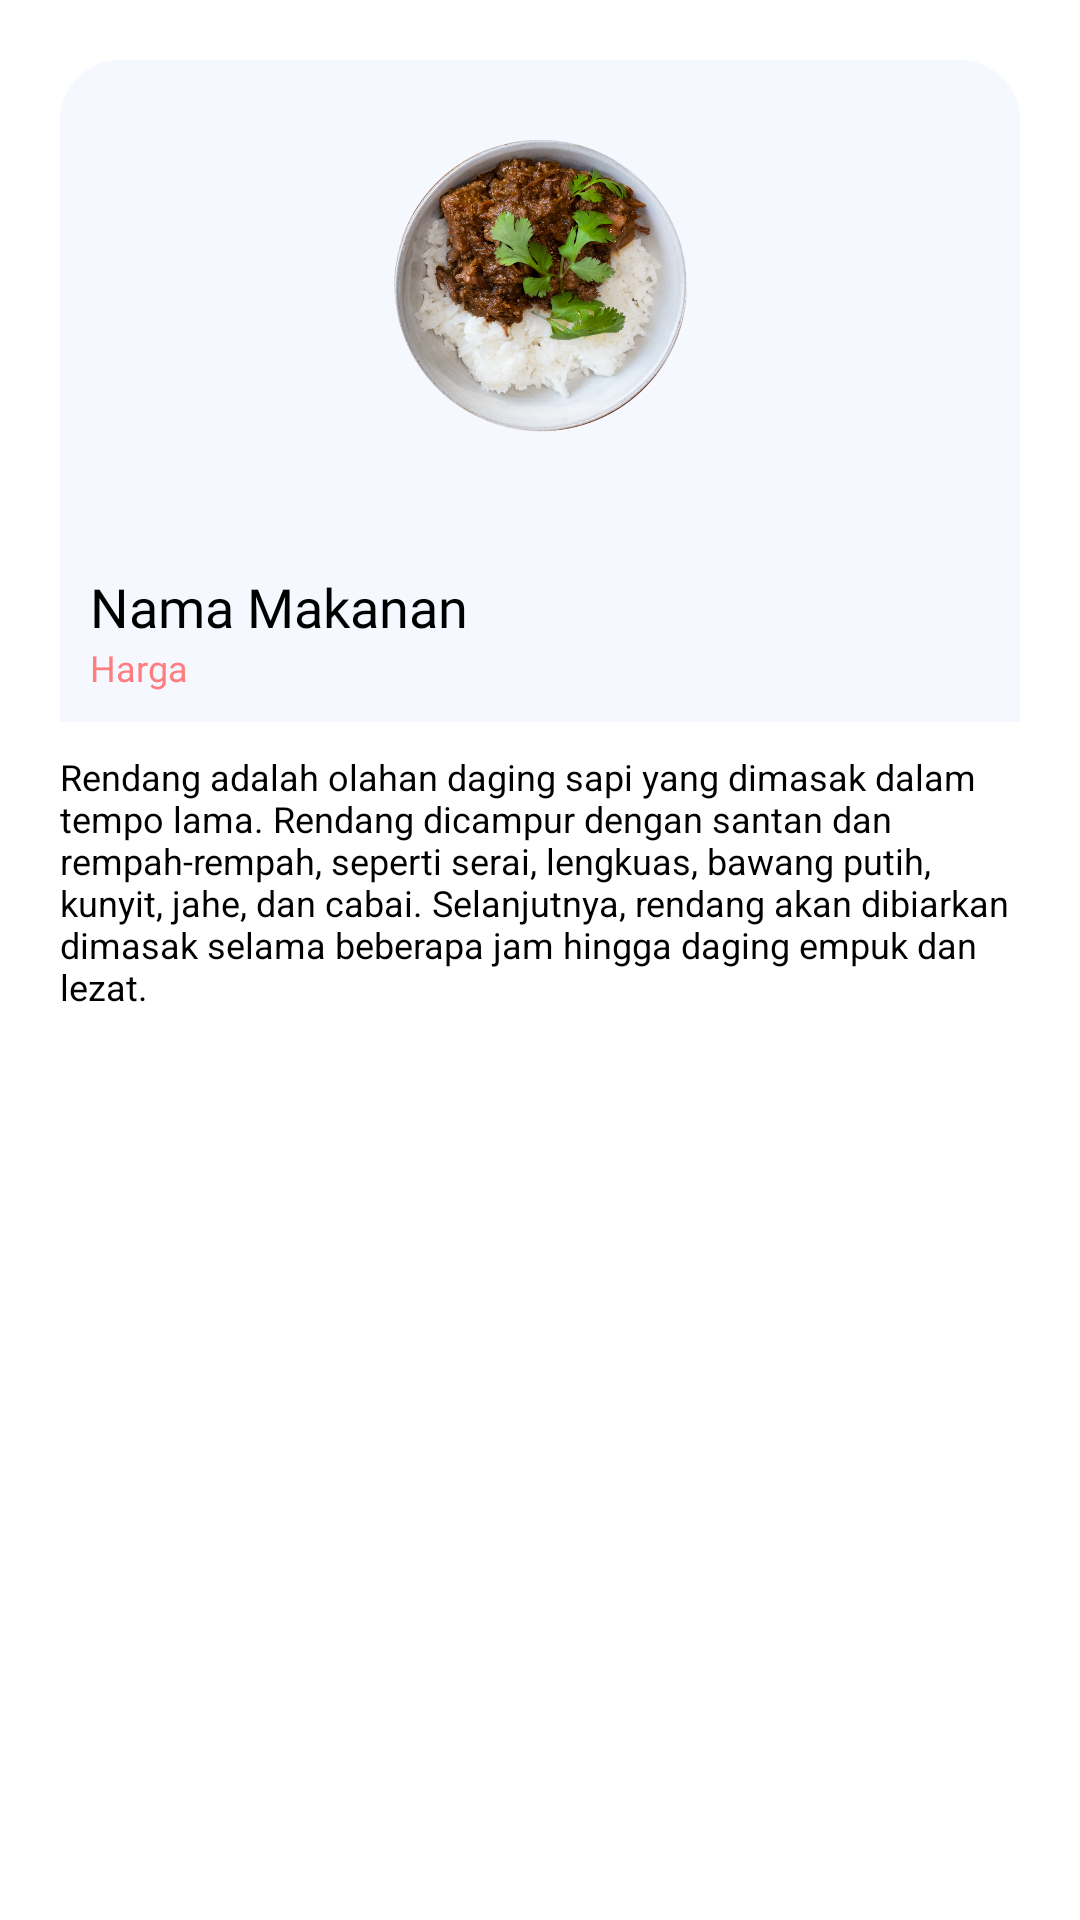

Named icons in this screenshot (1080*1920) and their bounding boxes, (x1, y1, x2, y2):
rendang: (394, 140, 687, 431)
